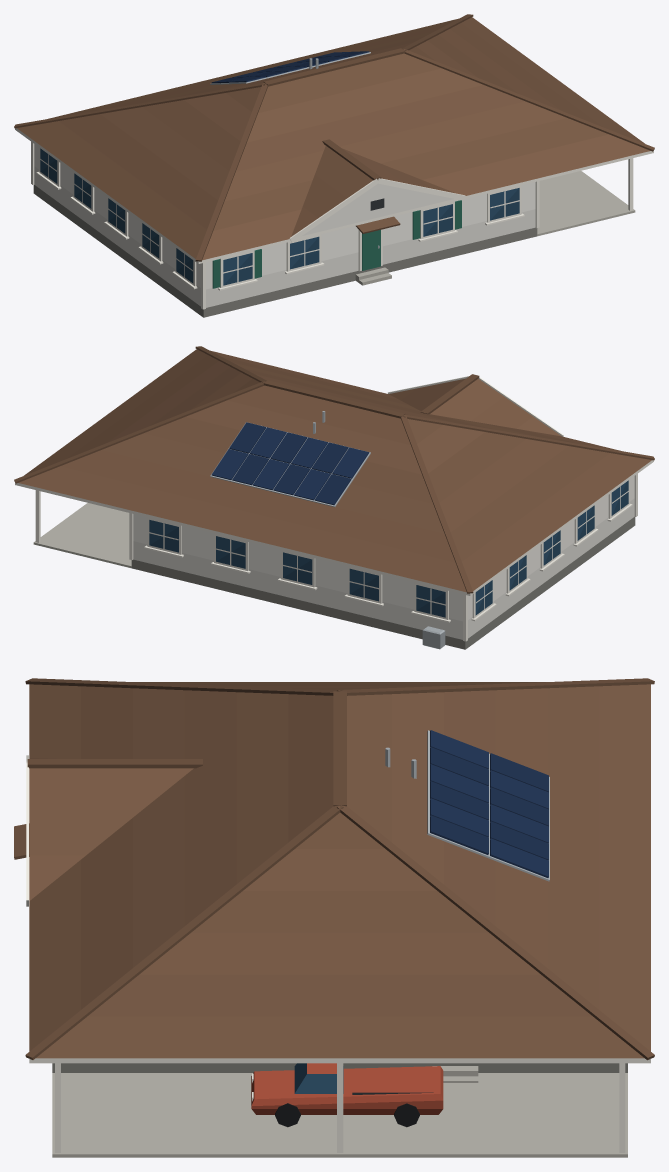
The model's file is house_22x15.glb.
3 views of the same model, one above another, from view 1: azimuth 30°, elevation 25°; view 2: azimuth 150°, elevation 25°; view 3: azimuth 270°, elevation 25° (orthographic). The views are drawn at different scales.
Parts seen in each view (by area): view 1: house; view 2: house; view 3: house.
Part boxes in pixels (left/top/right/bottom): house: left=14, top=14, right=654, bottom=317; house: left=14, top=346, right=654, bottom=649; house: left=14, top=678, right=654, bottom=1157.
Size of the model in its own units: 23.4 by 6.64 by 16.7.
